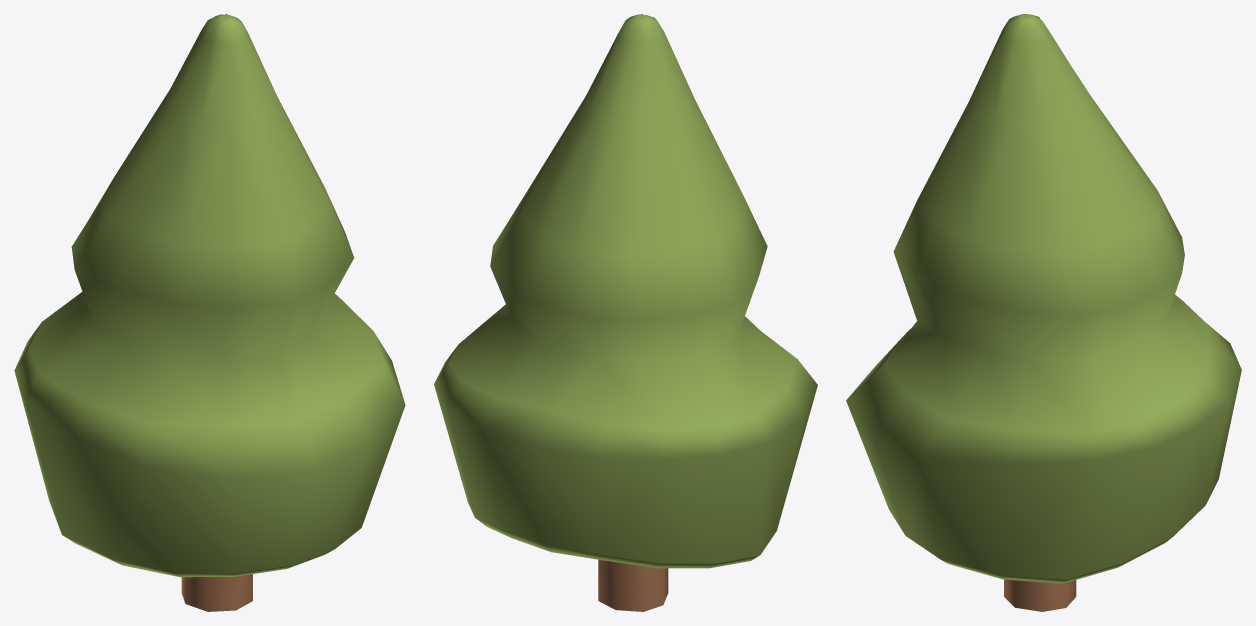
File: Pine_L.fbx
3 renders of one model, left to right at view 1: azimuth 30°, elevation 25°; view 2: azimuth 150°, elevation 25°; view 3: azimuth 270°, elevation 25°, orthographic.
Parts seen in each view (by area): view 1: Tree_L; view 2: Tree_L; view 3: Tree_L.
Boxes of the visible parts, box(x1,y1,x2,y2) form: Tree_L: box(14, 14, 405, 611); Tree_L: box(434, 14, 817, 611); Tree_L: box(846, 14, 1241, 611).
Bounding box in the file's own units: 58.33 × 98.52 × 60.94.
